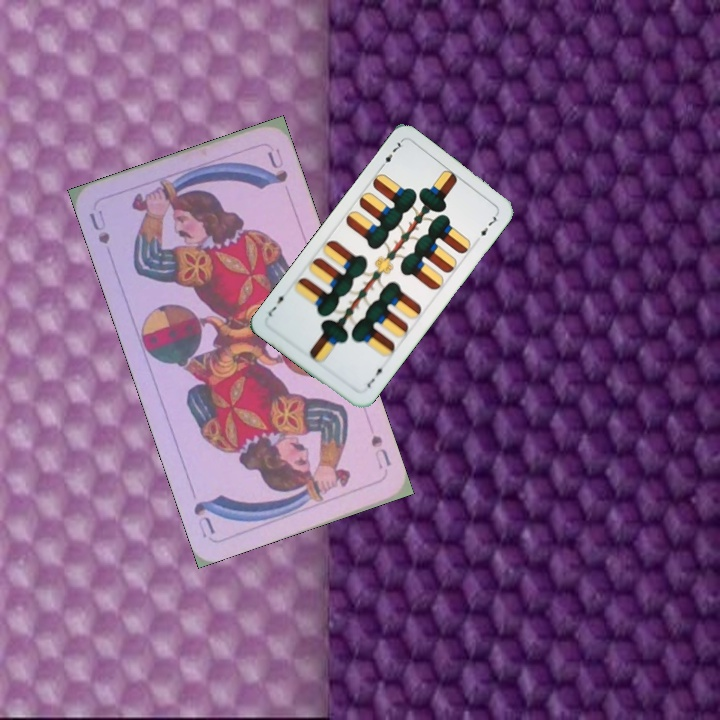E7: (376, 137, 405, 172), (363, 361, 388, 390)
SU: (84, 206, 113, 247), (366, 430, 394, 472)
